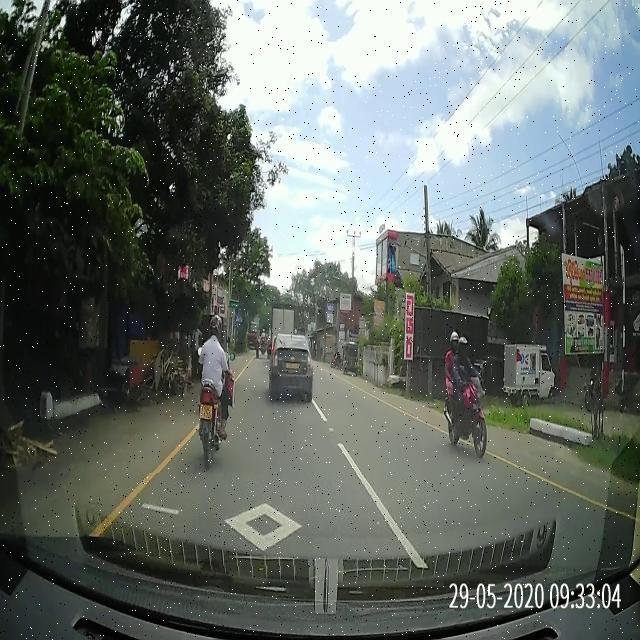diamond: (84, 474, 425, 566)
